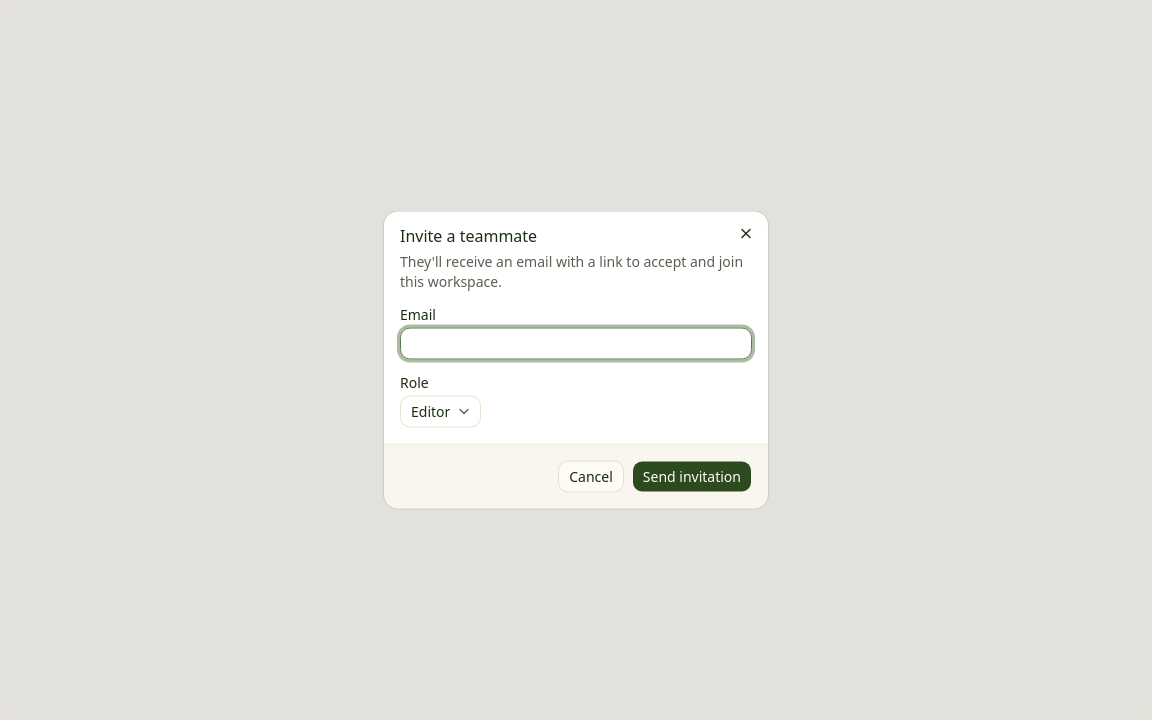
Test case: InviteMemberDialog › surfaces seat-cap errors with an upgrade prompt
Type "more@example.com" into the field with test id "invite-email-input".
click(576, 344); type("more@example.com")  # box [400,328,752,360]
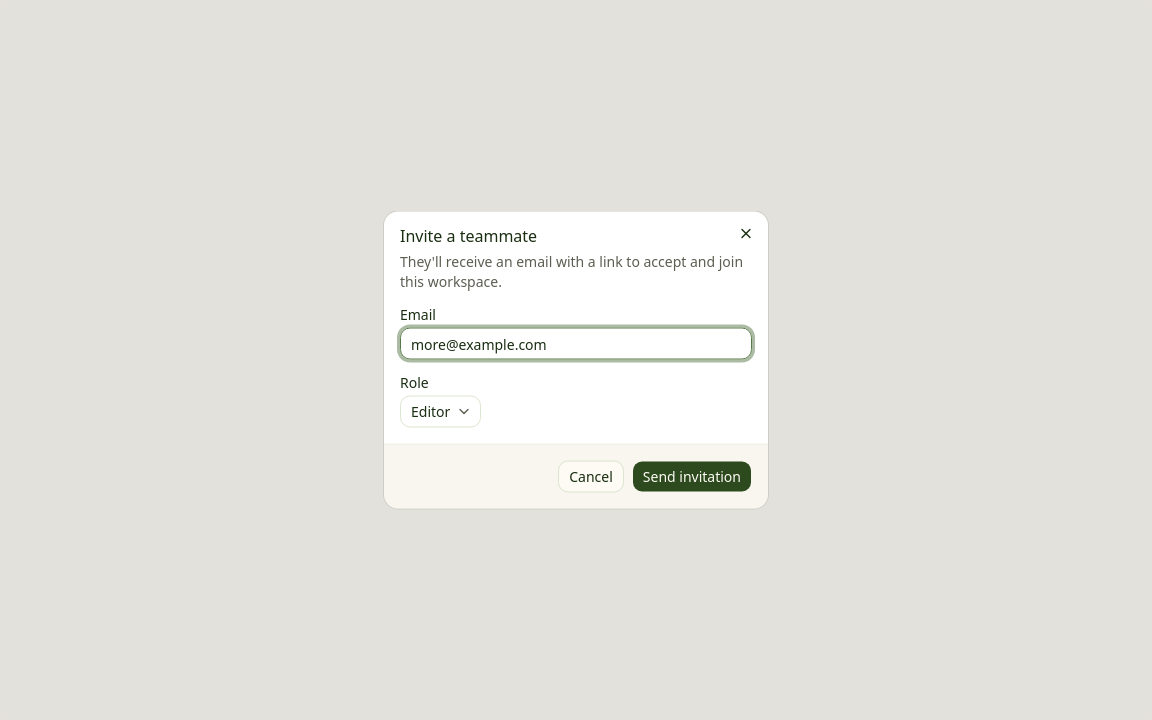
Click the button with test id "invite-submit".
click(692, 476)  # box [632,460,752,492]
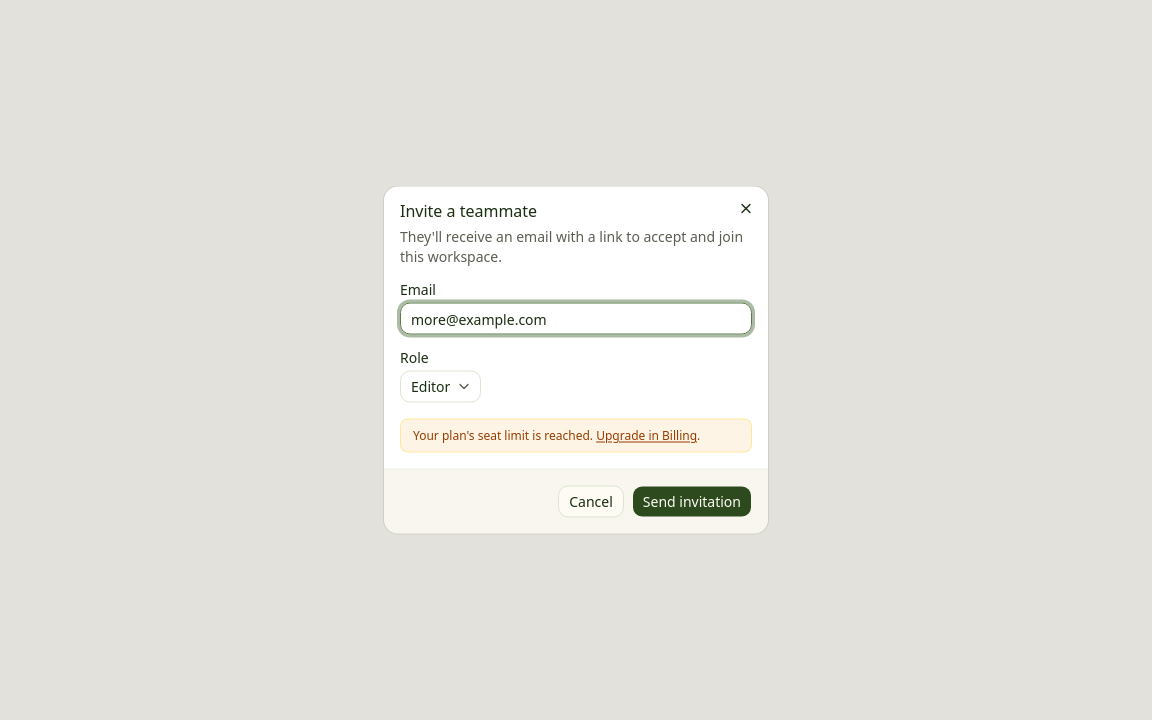
Expected: the element with test id "invite-seat-cap" shows "seat limit", [413,426,593,444]
